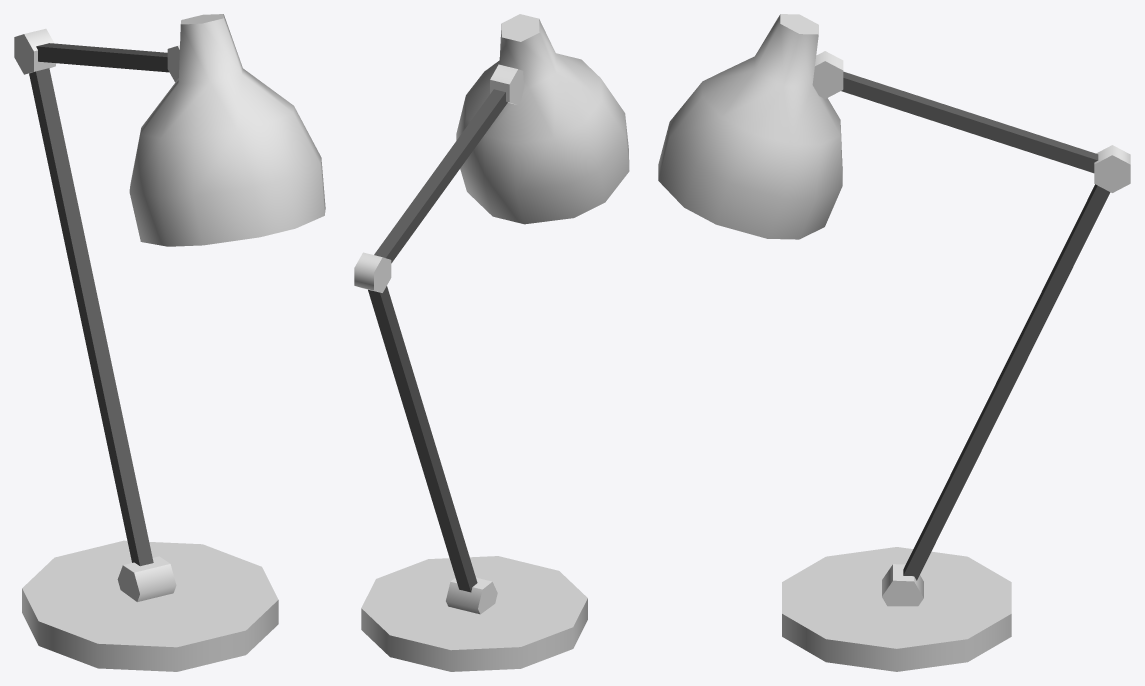
File: lamp_021.glb
The picture shows the model from 3 angles, left to right: view 1: azimuth 30°, elevation 25°; view 2: azimuth 150°, elevation 25°; view 3: azimuth 270°, elevation 25°; orthographic projection. The views are drawn at different scales.
Parts seen in each view (by area): view 1: lamp_021; view 2: lamp_021; view 3: lamp_021.
Part boxes in pixels (bbox=[...]): lamp_021: bbox=[14, 14, 325, 671]; lamp_021: bbox=[354, 14, 629, 671]; lamp_021: bbox=[658, 14, 1130, 671].
Bounding box in the file's own units: 0.1458 × 0.4013 × 0.2853.
1 material, 1 textured.
